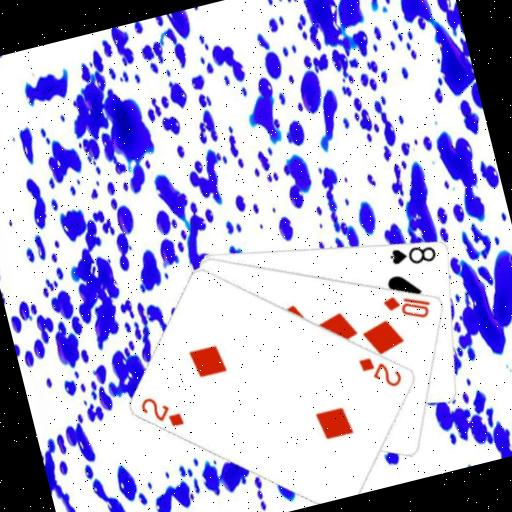10D: (379, 285, 435, 329)
2D: (355, 347, 406, 396), (136, 387, 187, 436)
8S: (385, 236, 440, 273)
